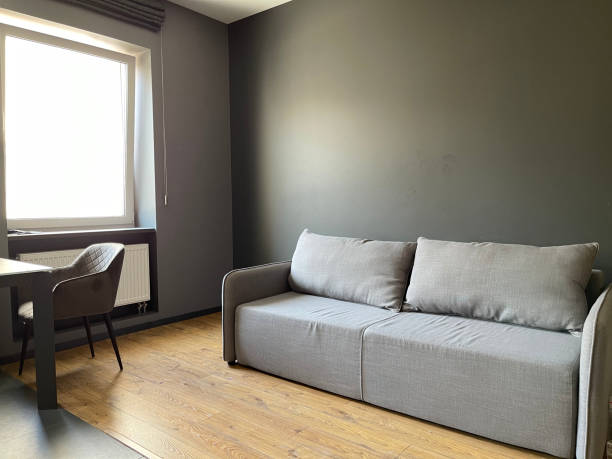chair: (16, 238, 126, 376)
sofa: (216, 224, 612, 458)
